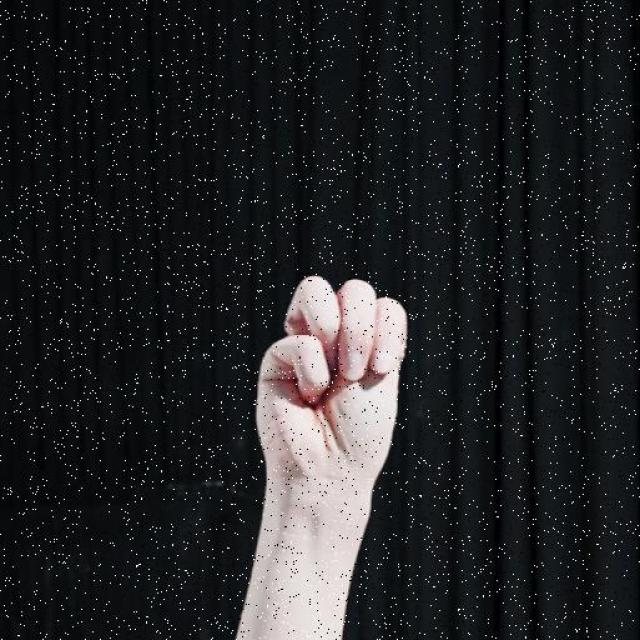M: (255, 274, 414, 488)
